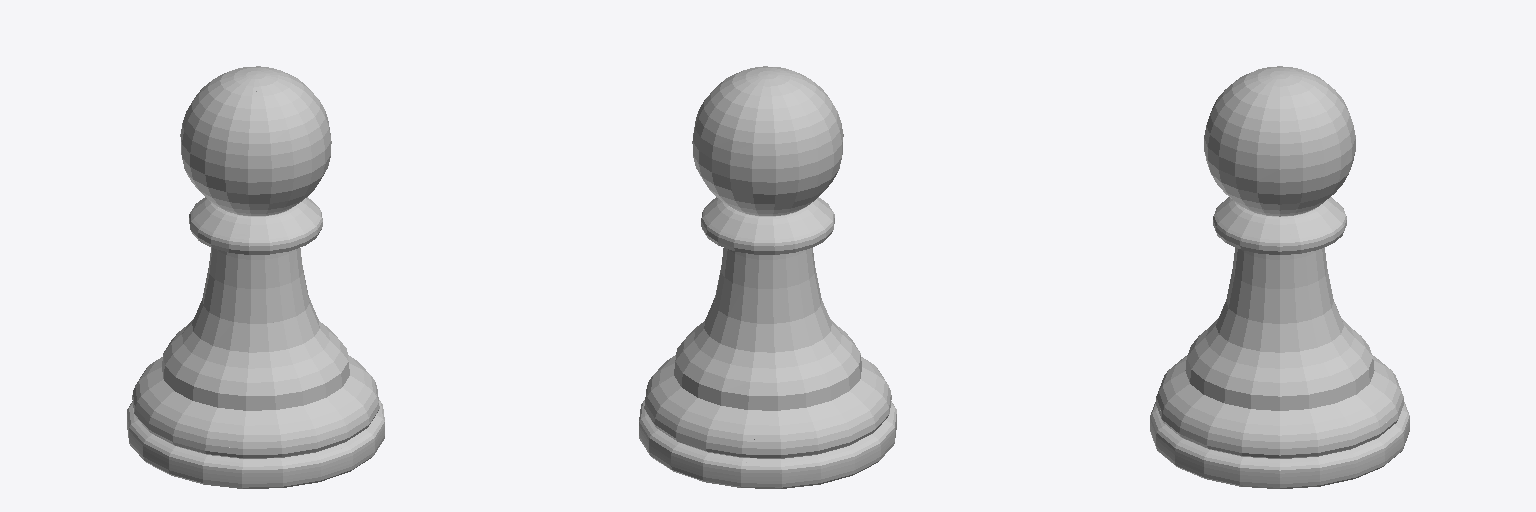
Rendered from pawn_b_7.obj.
3 renders of one model, left to right at view 1: azimuth 30°, elevation 25°; view 2: azimuth 150°, elevation 25°; view 3: azimuth 270°, elevation 25°, orthographic.
Parts seen in each view (by area): view 1: pawn_b_7; view 2: pawn_b_7; view 3: pawn_b_7.
Part boxes in pixels (bbox=[...]): pawn_b_7: bbox=[127, 66, 384, 488]; pawn_b_7: bbox=[639, 66, 896, 488]; pawn_b_7: bbox=[1150, 66, 1409, 488].
Size of the model in its own units: 2.73 by 4.2 by 2.73.